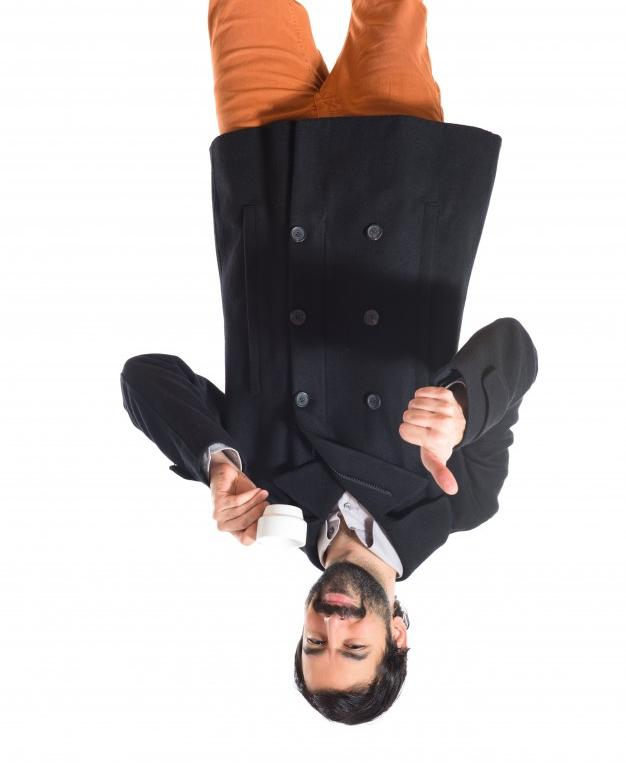thumbsdown: (398, 387, 458, 496)
